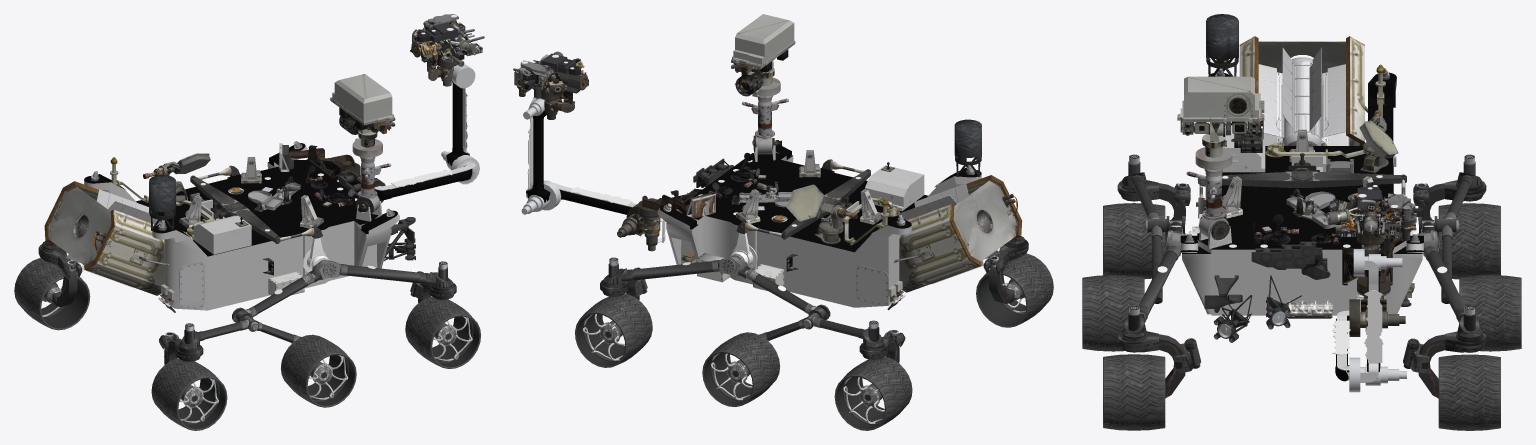
File: msl.glb
3 views of the same model, side by side, from view 1: azimuth 30°, elevation 25°; view 2: azimuth 150°, elevation 25°; view 3: azimuth 270°, elevation 25° (orthographic). The views are drawn at different scales.
Visible parts, largest first — view 1: body_mesh, mast_mesh, wheel_R1_mesh, wheel_R2_mesh, wheel_R0_mesh, wheel_L2_mesh, rocker_R_mesh, bogie_R_mesh, steer_L2_mesh, steer_R2_mesh, hga_mesh, steer_R0_mesh; view 2: body_mesh, mast_mesh, wheel_L1_mesh, wheel_L0_mesh, wheel_L2_mesh, wheel_R2_mesh, rocker_L_mesh, bogie_L_mesh, steer_R2_mesh, hga_mesh, steer_L2_mesh, steer_L0_mesh; view 3: body_mesh, mast_mesh, wheel_R0_mesh, wheel_L0_mesh, wheel_R1_mesh, wheel_L1_mesh, wheel_R2_mesh, wheel_L2_mesh, steer_R0_mesh, steer_L0_mesh, rocker_R_mesh, rocker_L_mesh (+5 smaller).
Boxes of the visible parts, box(x1,y1,x2,y2) form: body_mesh: box(44, 14, 484, 312); mast_mesh: box(330, 74, 395, 213); wheel_R1_mesh: box(281, 334, 356, 407); wheel_R2_mesh: box(151, 358, 227, 430); wheel_R0_mesh: box(405, 296, 480, 368); wheel_L2_mesh: box(14, 258, 90, 330); rocker_R_mesh: box(236, 259, 453, 320); bogie_R_mesh: box(179, 307, 301, 350); steer_L2_mesh: box(38, 244, 82, 306); steer_R2_mesh: box(159, 332, 203, 364); hga_mesh: box(163, 153, 210, 174); steer_R0_mesh: box(410, 271, 456, 302); body_mesh: box(513, 51, 1022, 310); mast_mesh: box(731, 14, 795, 154); wheel_L1_mesh: box(702, 332, 780, 406); wheel_L0_mesh: box(575, 293, 652, 367); wheel_L2_mesh: box(834, 356, 912, 430); wheel_R2_mesh: box(976, 253, 1053, 327); rocker_L_mesh: box(603, 255, 825, 317); bogie_L_mesh: box(759, 304, 884, 348); steer_R2_mesh: box(983, 240, 1028, 303); hga_mesh: box(786, 184, 835, 222); steer_L2_mesh: box(859, 329, 905, 362); steer_L0_mesh: box(600, 267, 647, 299); body_mesh: box(1164, 14, 1439, 392); mast_mesh: box(1177, 76, 1264, 240); wheel_R0_mesh: box(1103, 354, 1165, 430); wheel_L0_mesh: box(1438, 354, 1500, 430); wheel_R1_mesh: box(1082, 275, 1144, 351); wheel_L1_mesh: box(1459, 275, 1521, 351); wheel_R2_mesh: box(1103, 203, 1165, 278); wheel_L2_mesh: box(1438, 203, 1500, 279); steer_R0_mesh: box(1117, 331, 1200, 398); steer_L0_mesh: box(1403, 331, 1486, 398); rocker_R_mesh: box(1121, 220, 1186, 339); rocker_L_mesh: box(1417, 220, 1482, 339).
Size of the model in its own units: 3.92 by 2.2 by 2.76.
10 materials, 7 textured.
